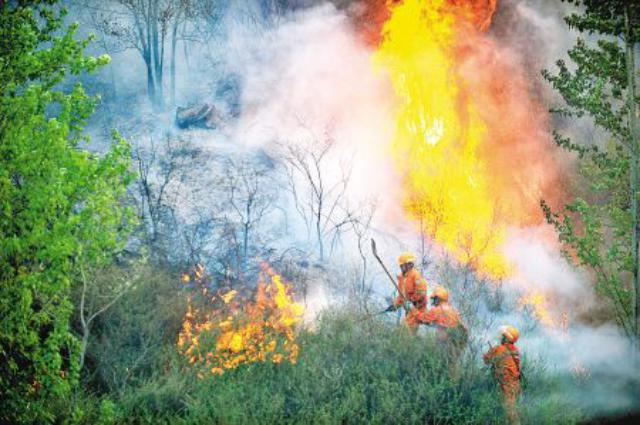fire: (372, 0, 492, 68), (400, 118, 484, 184), (422, 183, 490, 246), (391, 70, 457, 121), (214, 325, 266, 367), (269, 272, 301, 326), (472, 248, 508, 277), (175, 312, 199, 350), (248, 281, 268, 322), (525, 289, 553, 313), (280, 331, 298, 362), (216, 283, 232, 301)
